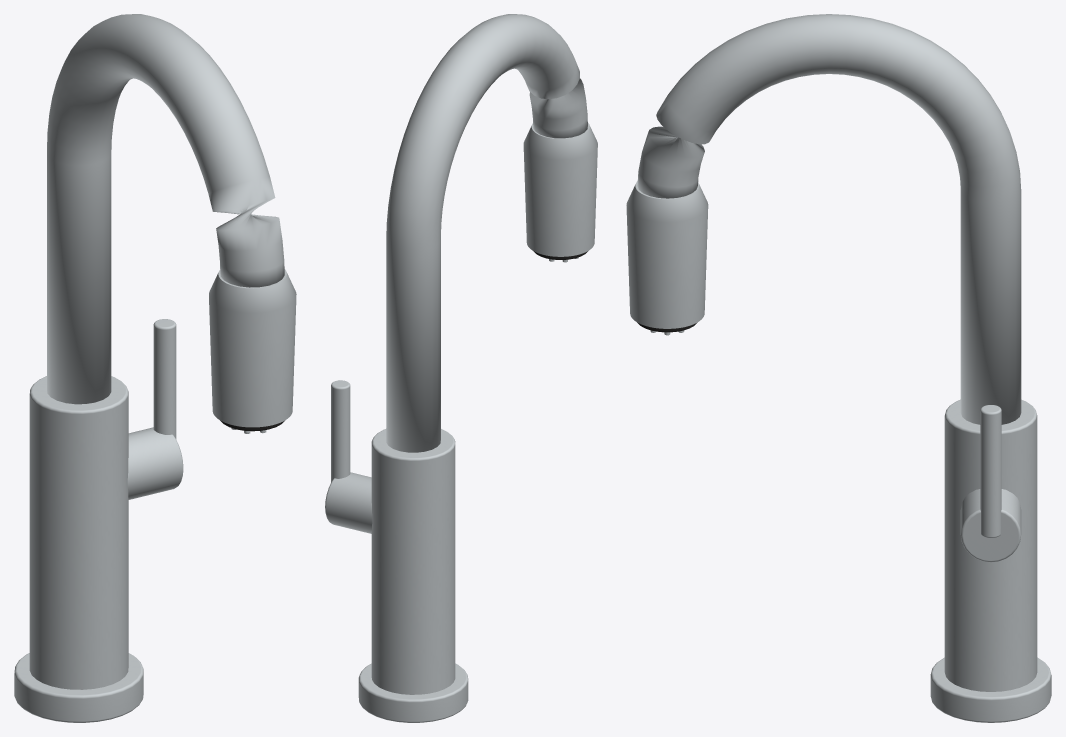
The model's file is pull-down-kitchen-faucet.glb.
3 views of the same model, side by side, from view 1: azimuth 30°, elevation 25°; view 2: azimuth 150°, elevation 25°; view 3: azimuth 270°, elevation 25° (orthographic). The views are drawn at different scales.
Parts seen in each view (by area): view 1: Pull-down | tall swivel spout, Pull-down | valve body, Pull-down | detachable spray head, Pull-down | base escutcheon, Pull-down | side control, Pull-down | lever; view 2: Pull-down | tall swivel spout, Pull-down | valve body, Pull-down | detachable spray head, Pull-down | base escutcheon, Pull-down | side control, Pull-down | lever; view 3: Pull-down | tall swivel spout, Pull-down | valve body, Pull-down | detachable spray head, Pull-down | base escutcheon, Pull-down | side control, Pull-down | lever.
Boxes of the visible parts, x1,y1,x2,y2 form: Pull-down | tall swivel spout: [47, 14, 284, 404]; Pull-down | valve body: [29, 376, 128, 689]; Pull-down | detachable spray head: [209, 269, 296, 427]; Pull-down | base escutcheon: [14, 653, 143, 722]; Pull-down | side control: [127, 427, 183, 499]; Pull-down | lever: [153, 319, 176, 438]; Pull-down | tall swivel spout: [386, 14, 587, 452]; Pull-down | valve body: [371, 429, 455, 694]; Pull-down | detachable spray head: [523, 123, 597, 256]; Pull-down | base escutcheon: [358, 663, 468, 722]; Pull-down | side control: [325, 472, 372, 533]; Pull-down | lever: [331, 380, 350, 482]; Pull-down | tall swivel spout: [637, 14, 1021, 424]; Pull-down | valve body: [944, 399, 1037, 691]; Pull-down | detachable spray head: [626, 181, 708, 328]; Pull-down | base escutcheon: [930, 657, 1051, 722]; Pull-down | side control: [960, 489, 1021, 562]; Pull-down | lever: [980, 405, 1001, 537].
Size of the model in its own units: 0.092 by 0.423 by 0.239.
Materials: 2 (2 with a texture image).
